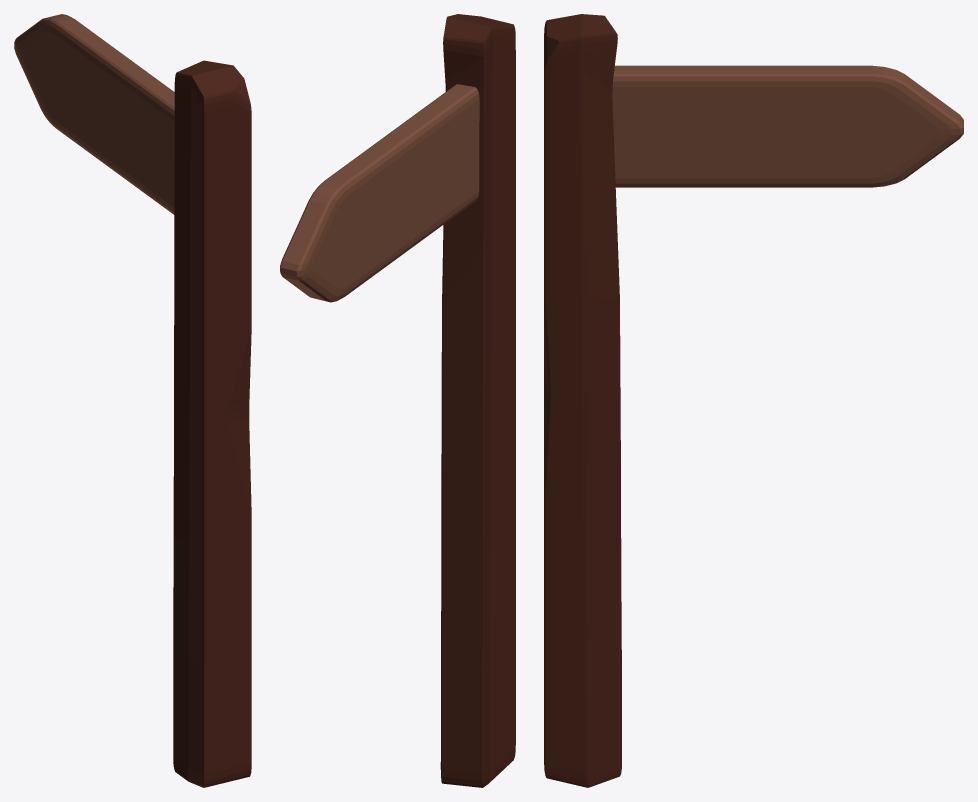
Rendered from SingleSign.fbx.
3 views of the same model, side by side, from view 1: azimuth 30°, elevation 25°; view 2: azimuth 150°, elevation 25°; view 3: azimuth 270°, elevation 25° (orthographic). The views are drawn at different scales.
Parts seen in each view (by area): view 1: Beam.002, Sign.003; view 2: Beam.002, Sign.003; view 3: Beam.002, Sign.003.
Part boxes in pixels (<box>): Beam.002: <box>173,60,251,787</box>; Sign.003: <box>14,14,174,214</box>; Beam.002: <box>440,14,515,787</box>; Sign.003: <box>280,84,479,302</box>; Beam.002: <box>544,14,621,787</box>; Sign.003: <box>612,65,963,187</box>.
Bounding box in the file's own units: 0.026 × 0.00369 × 0.0515.
